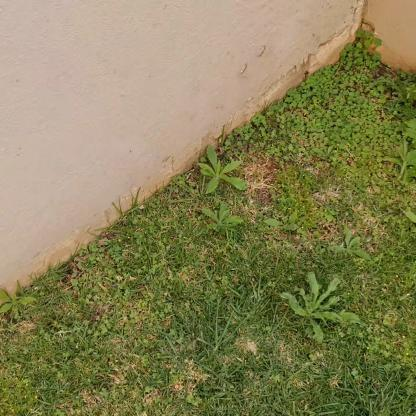Weeds: (281, 272, 361, 339), (197, 145, 248, 196), (201, 202, 245, 234), (331, 226, 371, 260), (386, 137, 415, 182), (0, 289, 38, 319), (262, 211, 299, 235)
